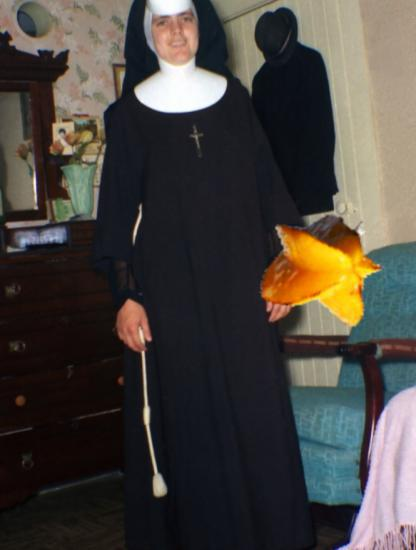Carambula: (258, 204, 387, 333)
